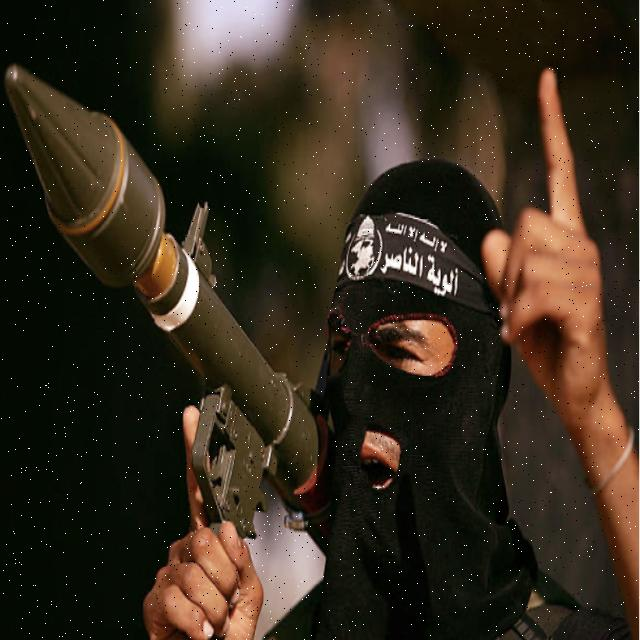bazooka: (1, 51, 335, 533)
